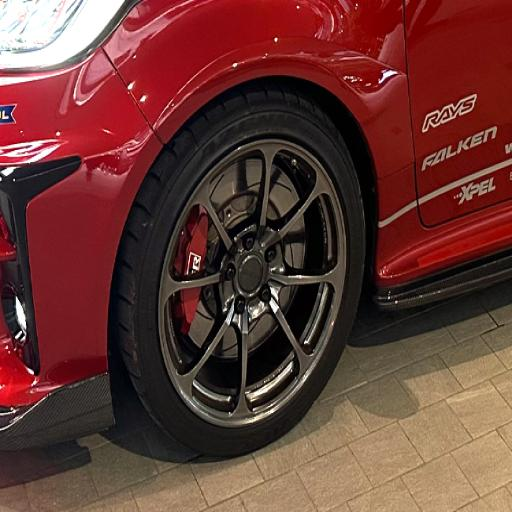wheel: (119, 74, 378, 462)
